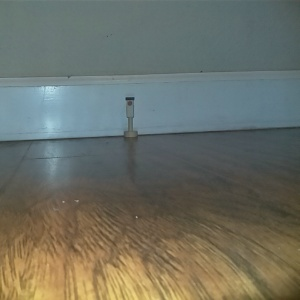traffic light red: (121, 94, 138, 139)
